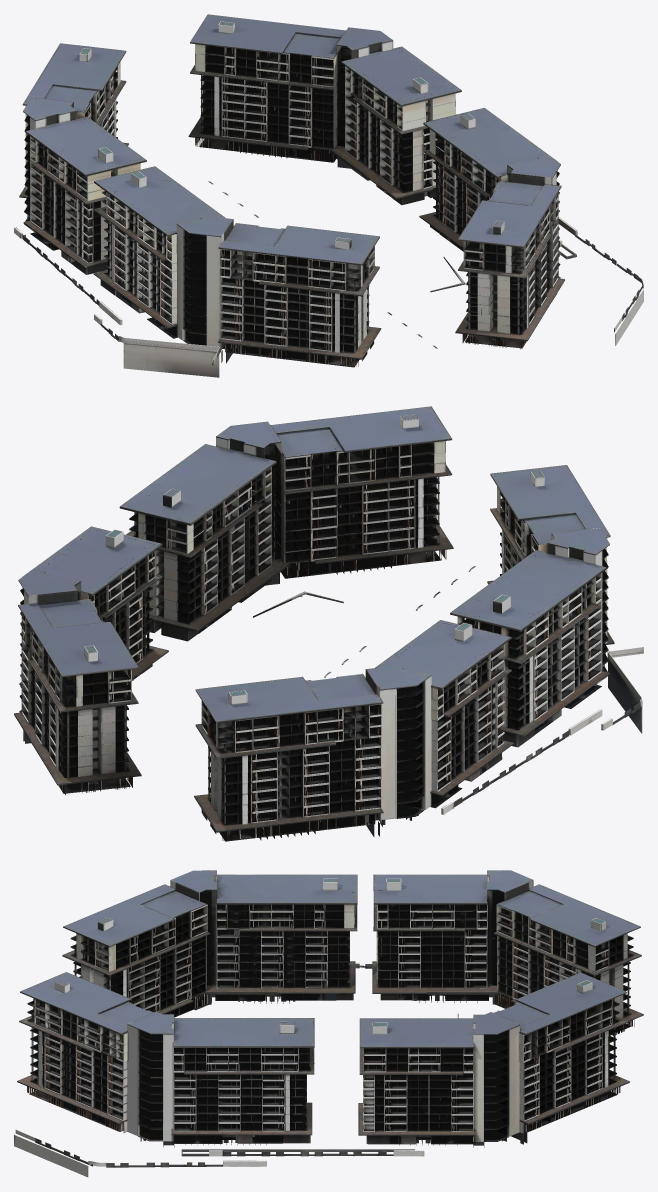
The model's file is Yaafour_build_2.glb.
The picture shows the model from 3 angles, top to bottom: view 1: azimuth 30°, elevation 25°; view 2: azimuth 150°, elevation 25°; view 3: azimuth 270°, elevation 25°; orthographic projection. The views are drawn at different scales.
Visible parts, largest first — view 1: house_2; view 2: house_2; view 3: house_2.
Part boxes in pixels (x1,y1,x2,y2): house_2: [14, 14, 643, 377]; house_2: [14, 406, 643, 841]; house_2: [14, 870, 643, 1177].
Bounding box in the file's own units: 181 × 52.74 × 228.
Materials: 4 (4 with a texture image).
